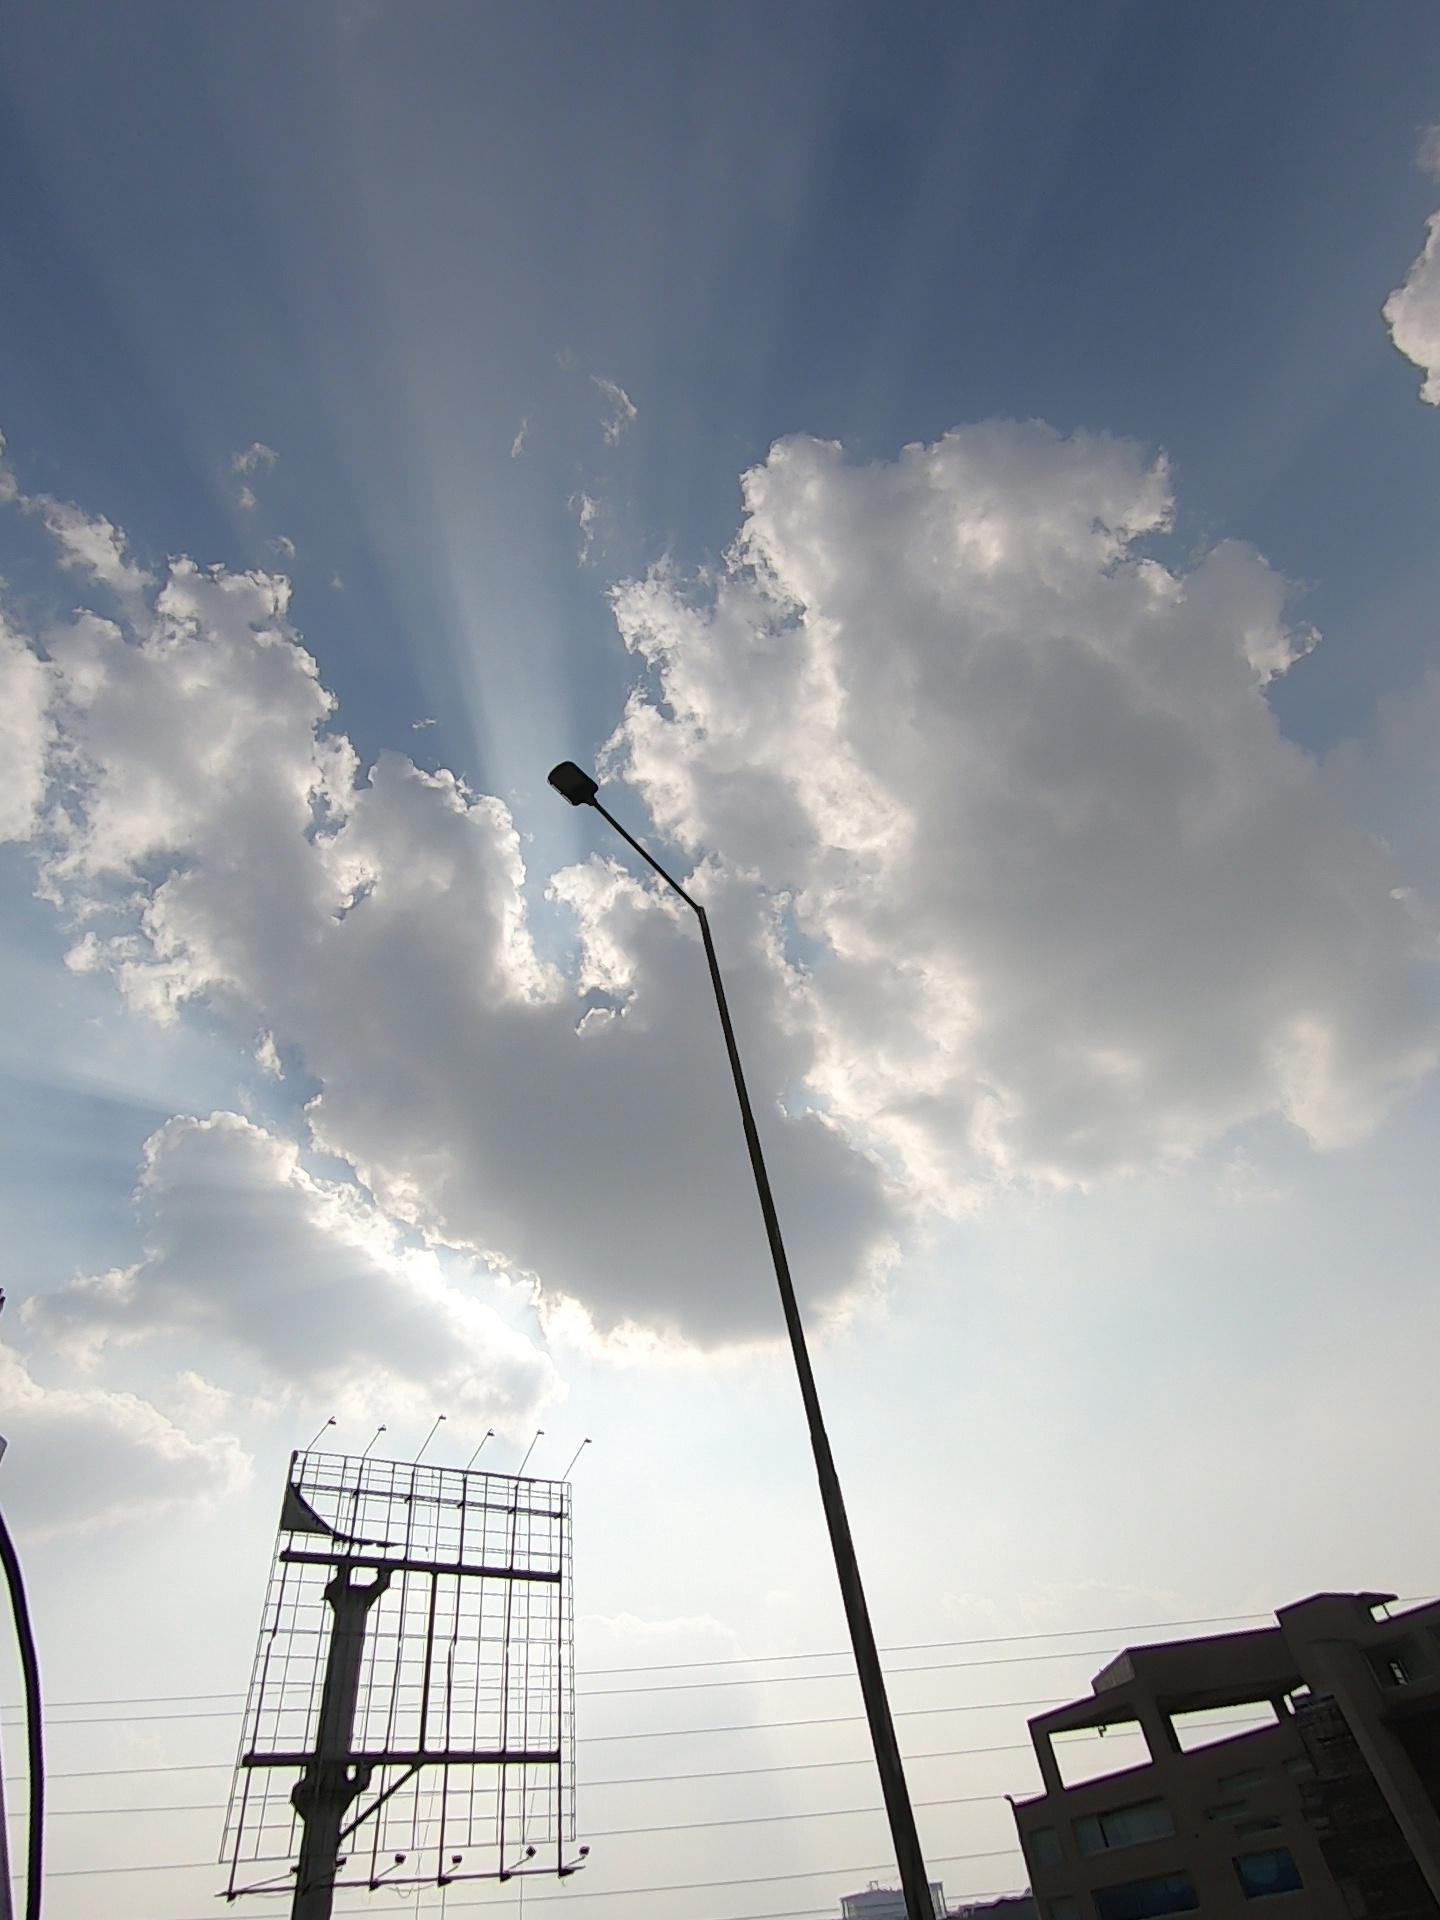off: (540, 671, 720, 1004)
